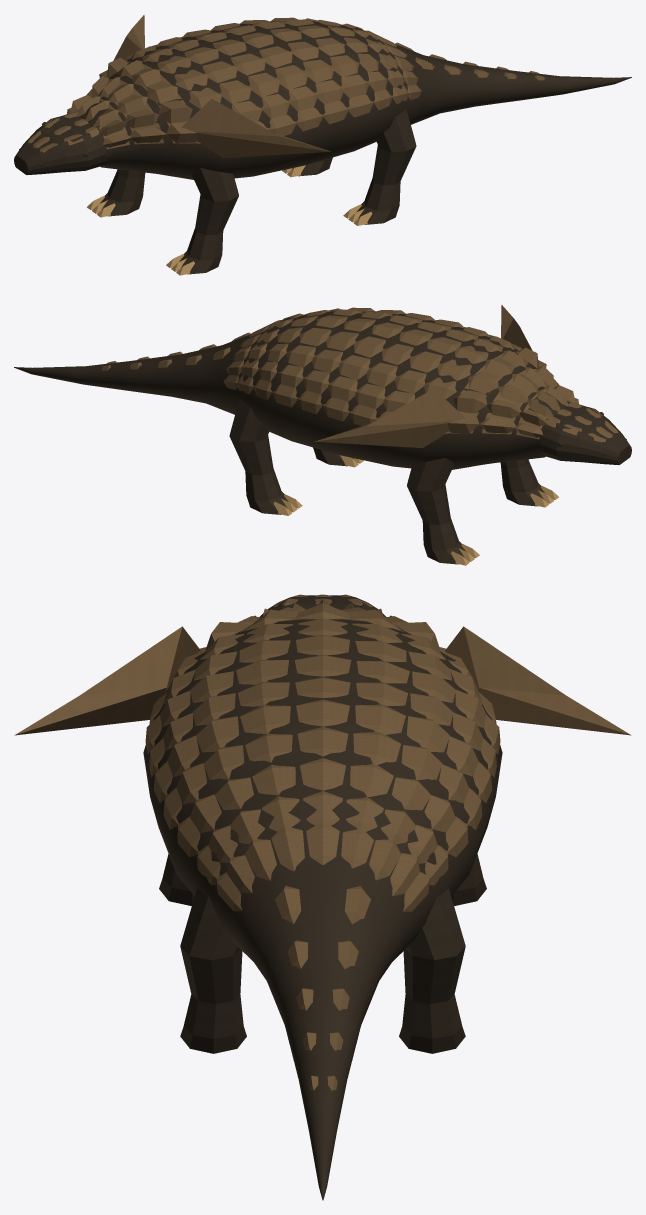
The picture shows the model from 3 angles, top to bottom: view 1: azimuth 30°, elevation 25°; view 2: azimuth 150°, elevation 25°; view 3: azimuth 270°, elevation 25°; orthographic projection. The views are drawn at different scales.
Parts seen in each view (by area): view 1: Continuous restored animal body head neck pelvis tail, Shoulder blade spike -1, Forelimb-1, Hindlimb-1, Forelimb1, Shoulder blade spike 1, Cervical band 3 keeled shield 1, Flattened thoracic osteoderm row03 column2, Flattened thoracic osteoderm row02 column2, Flattened thoracic osteoderm row01 column2, Flattened thoracic osteoderm row02 column3, Flattened thoracic osteoderm row03 column1 (+26 smaller); view 2: Continuous restored animal body head neck pelvis tail, Shoulder blade spike 1, Forelimb1, Hindlimb1, Forelimb-1, Shoulder blade spike -1, Cervical band 3 keeled shield 5, Flattened thoracic osteoderm row02 column7, Flattened thoracic osteoderm row03 column6, Flattened thoracic osteoderm row02 column6, Flattened thoracic osteoderm row03 column7, Flattened thoracic osteoderm row01 column6 (+26 smaller); view 3: Continuous restored animal body head neck pelvis tail, Hindlimb-1, Hindlimb1, Shoulder blade spike 1, Shoulder blade spike -1, Flattened thoracic osteoderm row04 column5, Flattened thoracic osteoderm row05 column5, Flattened thoracic osteoderm row04 column4, Flattened thoracic osteoderm row06 column4, Flattened thoracic osteoderm row05 column4, Flattened thoracic osteoderm row04 column3, Flattened thoracic osteoderm row06 column5 (+35 smaller).
Boxes of the visible parts, x1,y1,x2,y2 form: Continuous restored animal body head neck pelvis tail: (14, 21, 631, 179); Shoulder blade spike -1: (181, 99, 331, 158); Forelimb-1: (179, 168, 238, 274); Hindlimb-1: (356, 109, 416, 224); Forelimb1: (100, 169, 145, 216); Shoulder blade spike 1: (106, 15, 144, 73); Cervical band 3 keeled shield 1: (159, 100, 192, 123); Flattened thoracic osteoderm row03 column2: (275, 65, 307, 90); Flattened thoracic osteoderm row02 column2: (248, 72, 279, 97); Flattened thoracic osteoderm row01 column2: (219, 80, 250, 103); Flattened thoracic osteoderm row02 column3: (231, 53, 265, 75); Flattened thoracic osteoderm row03 column1: (289, 86, 317, 111); Continuous restored animal body head neck pelvis tail: (14, 311, 631, 469); Shoulder blade spike 1: (314, 389, 464, 448); Forelimb1: (407, 457, 465, 564); Hindlimb1: (229, 399, 288, 514); Forelimb-1: (500, 459, 545, 506); Shoulder blade spike -1: (501, 305, 538, 362); Cervical band 3 keeled shield 5: (453, 390, 486, 413); Flattened thoracic osteoderm row02 column7: (355, 383, 385, 409); Flattened thoracic osteoderm row03 column6: (338, 355, 370, 379); Flattened thoracic osteoderm row02 column6: (366, 362, 397, 387); Flattened thoracic osteoderm row03 column7: (328, 376, 357, 401); Flattened thoracic osteoderm row01 column6: (395, 370, 426, 393); Continuous restored animal body head neck pelvis tail: (143, 595, 502, 1200); Hindlimb-1: (180, 888, 246, 1053); Hindlimb1: (399, 888, 465, 1053); Shoulder blade spike 1: (445, 626, 631, 735); Shoulder blade spike -1: (14, 626, 200, 735); Flattened thoracic osteoderm row04 column5: (355, 704, 405, 734); Flattened thoracic osteoderm row05 column5: (353, 732, 400, 764); Flattened thoracic osteoderm row04 column4: (296, 699, 349, 726); Flattened thoracic osteoderm row06 column4: (300, 758, 345, 790); Flattened thoracic osteoderm row05 column4: (297, 727, 348, 756); Flattened thoracic osteoderm row04 column3: (240, 705, 290, 733); Flattened thoracic osteoderm row06 column5: (350, 763, 393, 796).
Size of the model in its own units: 1.04 by 0.2841 by 0.554.
Materials: 1 (1 with a texture image).
